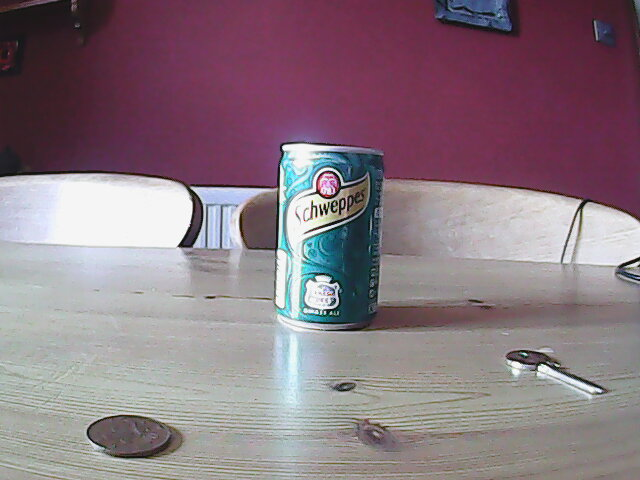Can: (273, 141, 391, 340)
Coin: (81, 411, 176, 460)
Key: (503, 346, 608, 399)
